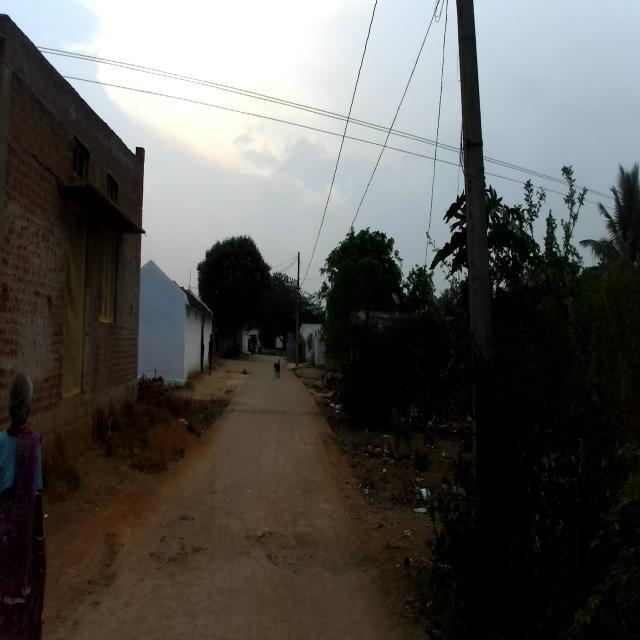pothole: (248, 474, 366, 620), (135, 486, 242, 640), (60, 508, 124, 640)
